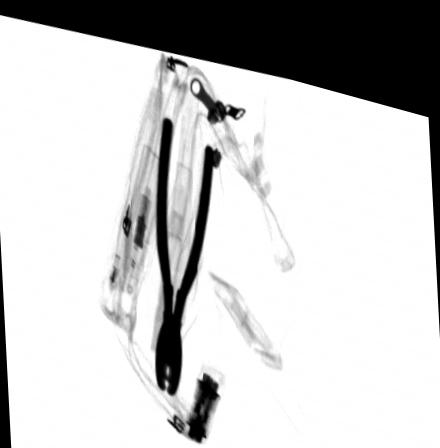Pliers: (154, 106, 214, 389)
